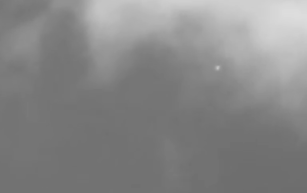Target: (216, 67, 219, 70)
